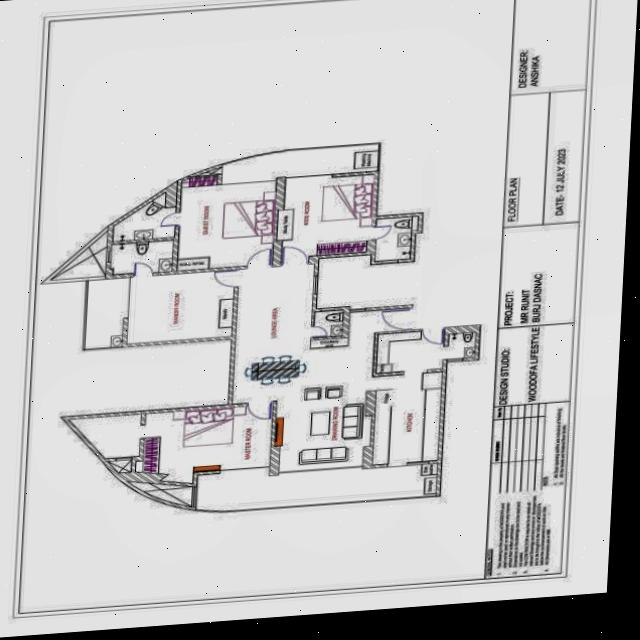room: (269, 335, 380, 472), (194, 460, 440, 512), (80, 269, 241, 348), (232, 258, 315, 407), (137, 401, 279, 486), (177, 174, 277, 275), (281, 173, 374, 258), (373, 367, 442, 467), (219, 142, 381, 184), (68, 413, 145, 461), (373, 328, 447, 372), (111, 199, 178, 241), (110, 239, 176, 274), (371, 215, 422, 260), (313, 309, 345, 336), (447, 331, 477, 358)
